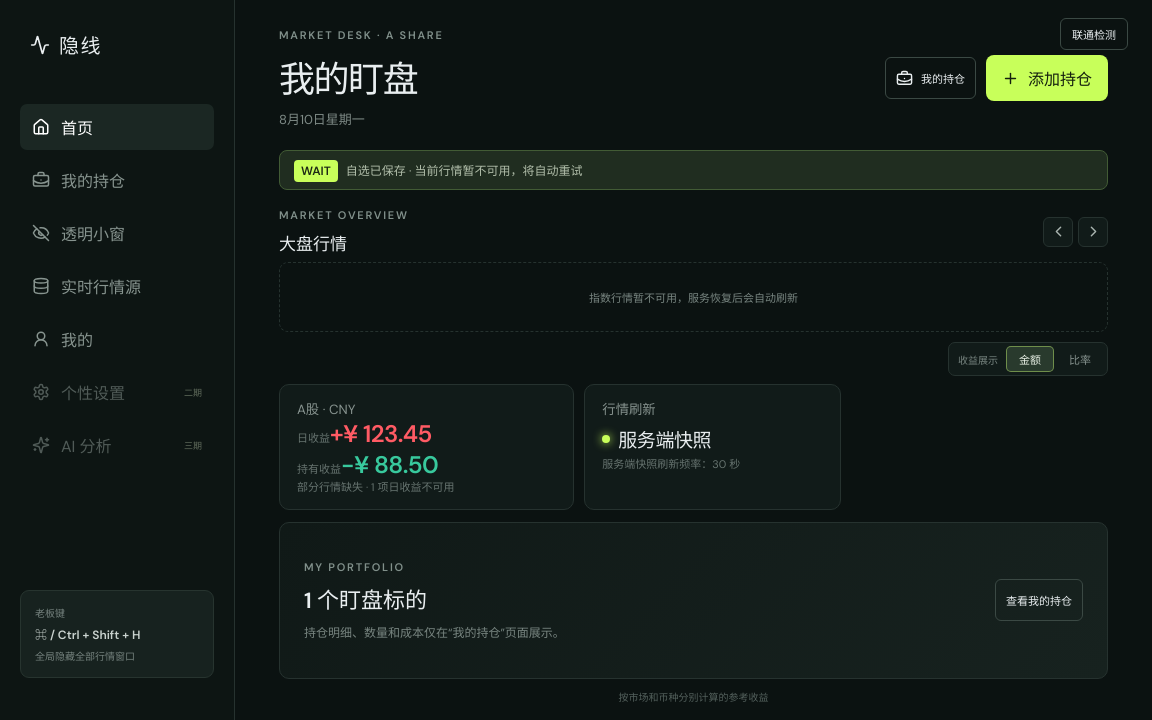
Scenario: Dashboard › 首页不展示持仓证券、数量与成本，进入我的持仓后才展示
Expected: the heading "我的盯盘" is shown, [279,56,417,103]
Expected: the text "贵州茅台" is not shown
Click the button "我的持仓" below "隐线".
click(117, 180)  # box [20,157,214,203]
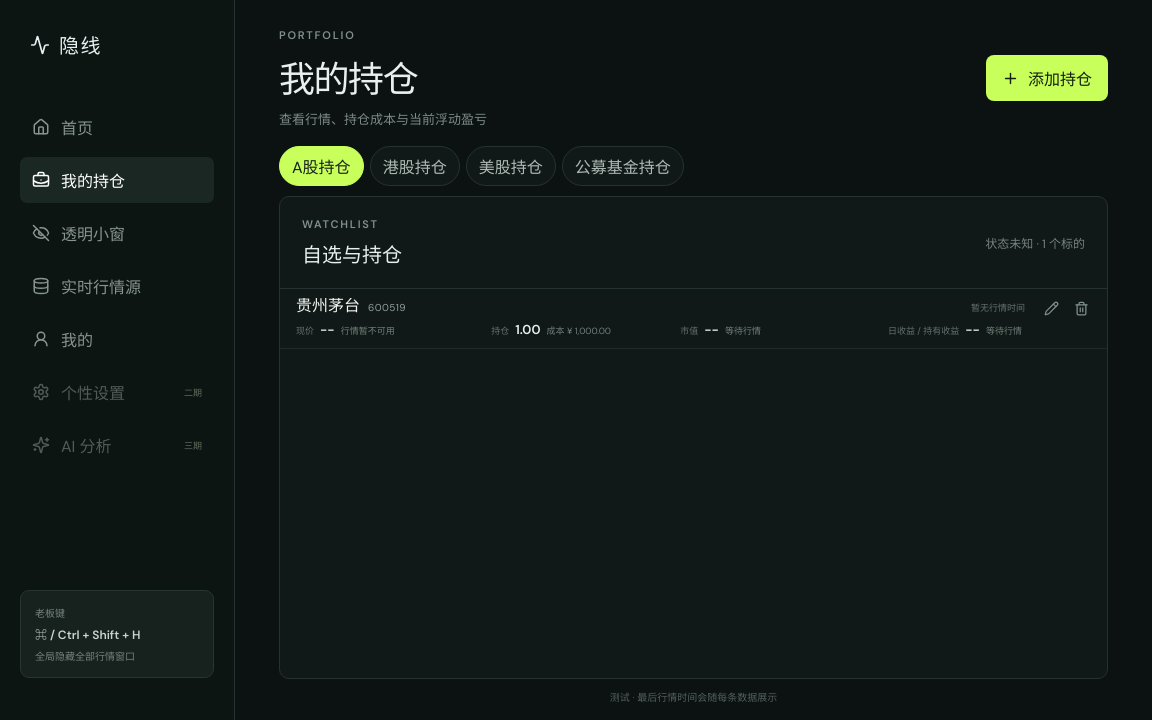
Expected: the text "贵州茅台" is shown, [296,298,360,314]
